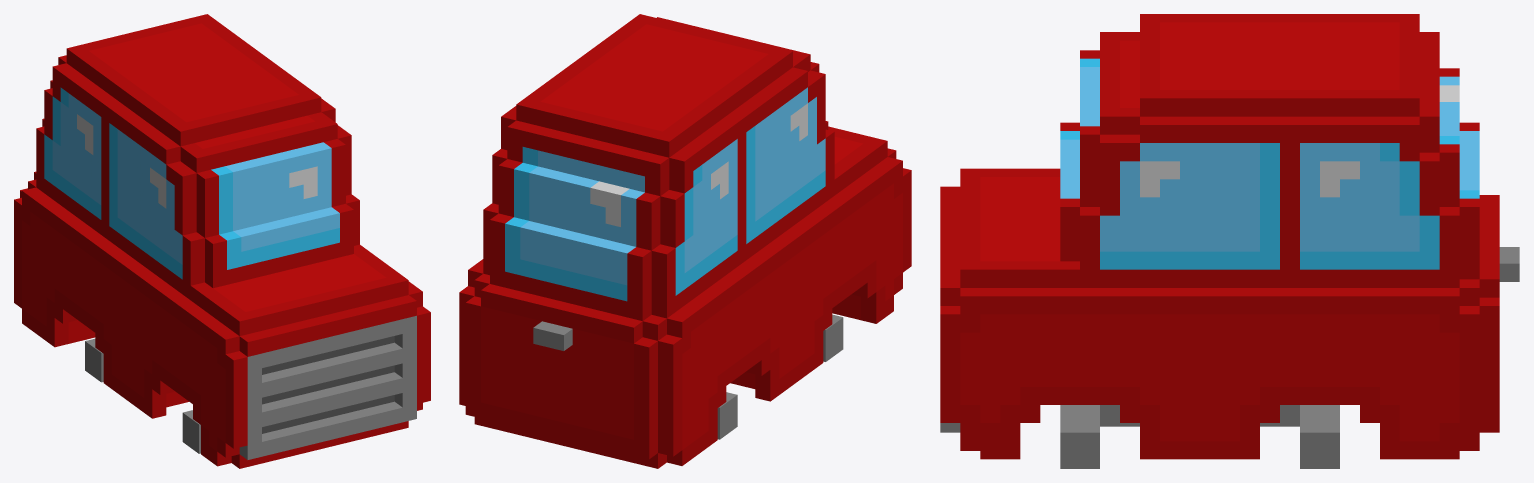
The model's file is npc_car.gltf.
3 views of the same model, side by side, from view 1: azimuth 30°, elevation 25°; view 2: azimuth 150°, elevation 25°; view 3: azimuth 270°, elevation 25° (orthographic). The views are drawn at different scales.
Parts seen in each view (by area): view 1: Layer.2; view 2: Layer.2; view 3: Layer.2.
Boxes of the visible parts, left/top/right/bottom form: Layer.2: left=14, top=14, right=430, bottom=468; Layer.2: left=459, top=14, right=911, bottom=468; Layer.2: left=940, top=14, right=1519, bottom=468.
Size of the model in its own units: 14 by 20 by 29.
Materials: 1 (1 with a texture image).
